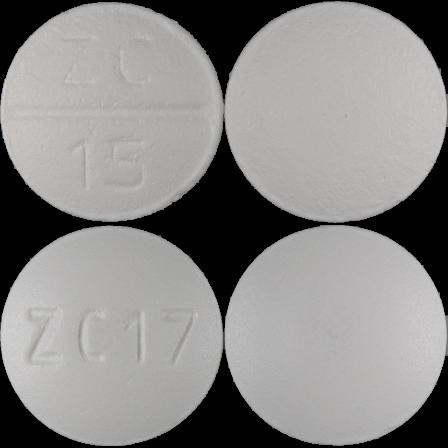68382-097: (0, 0, 224, 224)
